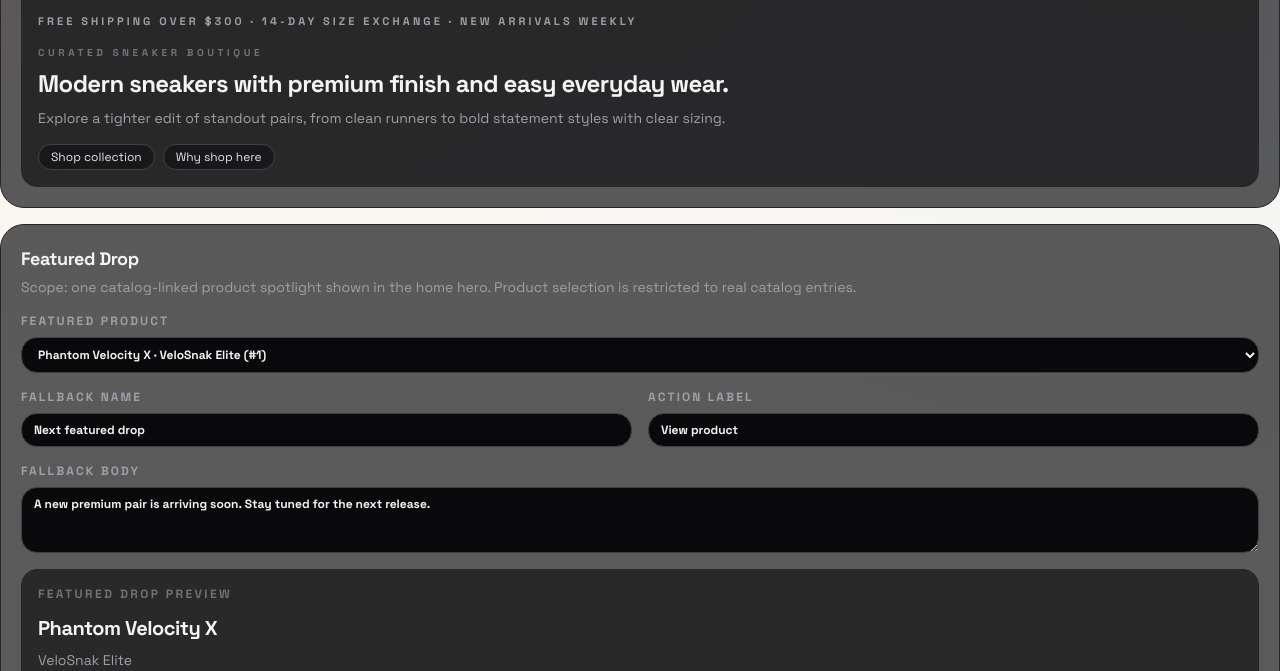
it: AdminContentPage › saves scoped content updates and keeps featured product linked to catalog ids
(page scrolled)
Select "Aero-Core Prototype · VeloSnak Elite (#2)" in the dropdown labelled "Featured product" at point(640, 355), box [21, 337, 1259, 373]
(page scrolled)
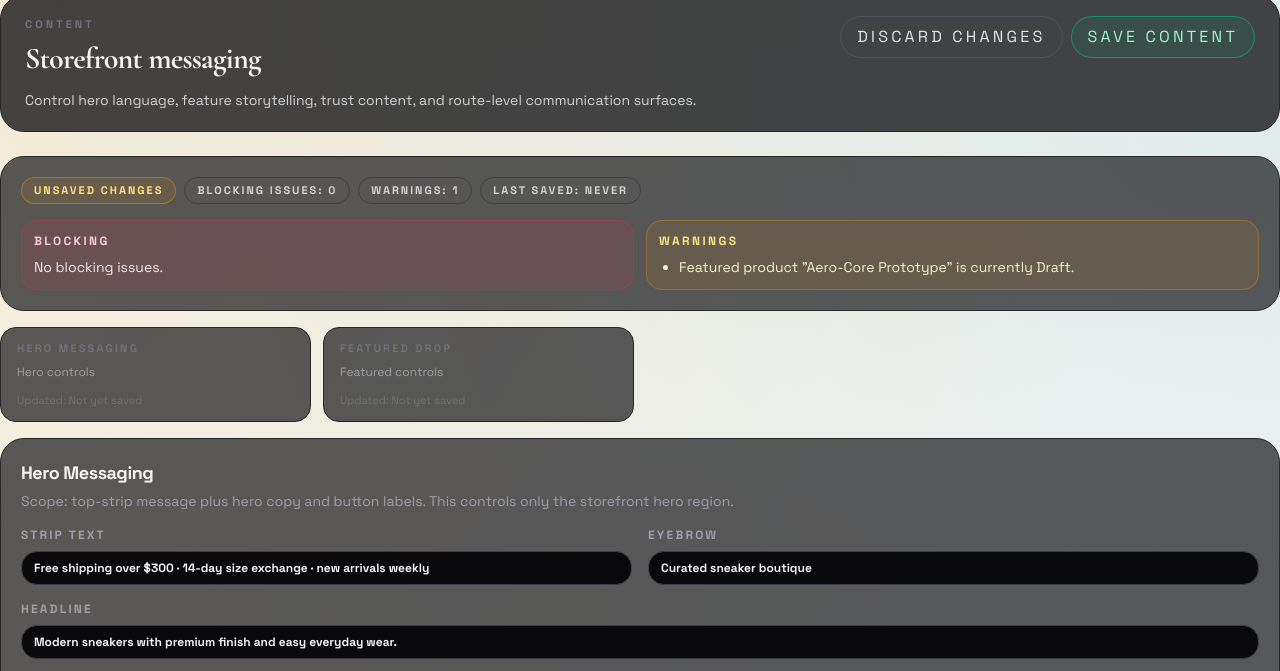
Click the button "Save content".
click(1163, 37)  # box [1070, 16, 1255, 58]
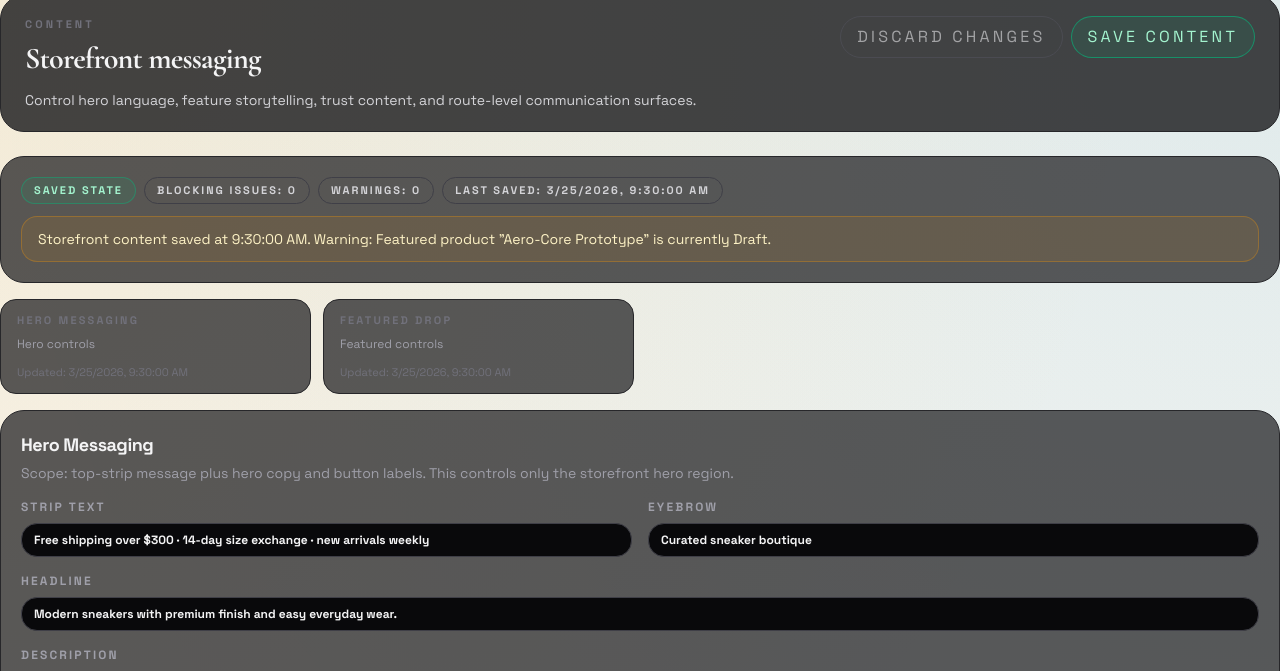
Expected: the text "Storefront content saved at" is shown, [38, 230, 771, 248]
